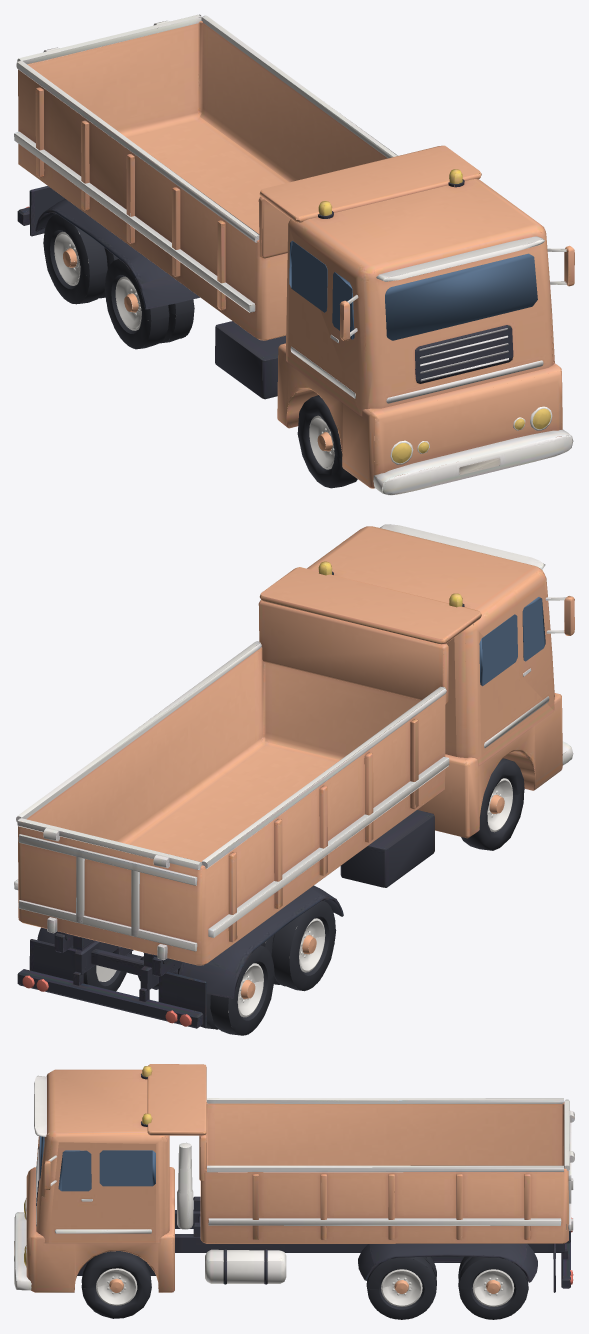
Rendered from camion_volquete.glb.
The picture shows the model from 3 angles, top to bottom: view 1: azimuth 30°, elevation 25°; view 2: azimuth 150°, elevation 25°; view 3: azimuth 270°, elevation 25°; orthographic projection. The views are drawn at different scales.
Parts seen in each view (by area): view 1: dump-truck_body; view 2: dump-truck_body; view 3: dump-truck_body.
Boxes of the visible parts, x1,y1,x2,y2 form: dump-truck_body: (14, 14, 574, 495); dump-truck_body: (14, 524, 574, 1035); dump-truck_body: (14, 1064, 574, 1319).
Size of the model in its own units: 2.94 by 3.19 by 8.26.
Materials: 24 (2 with a texture image).
